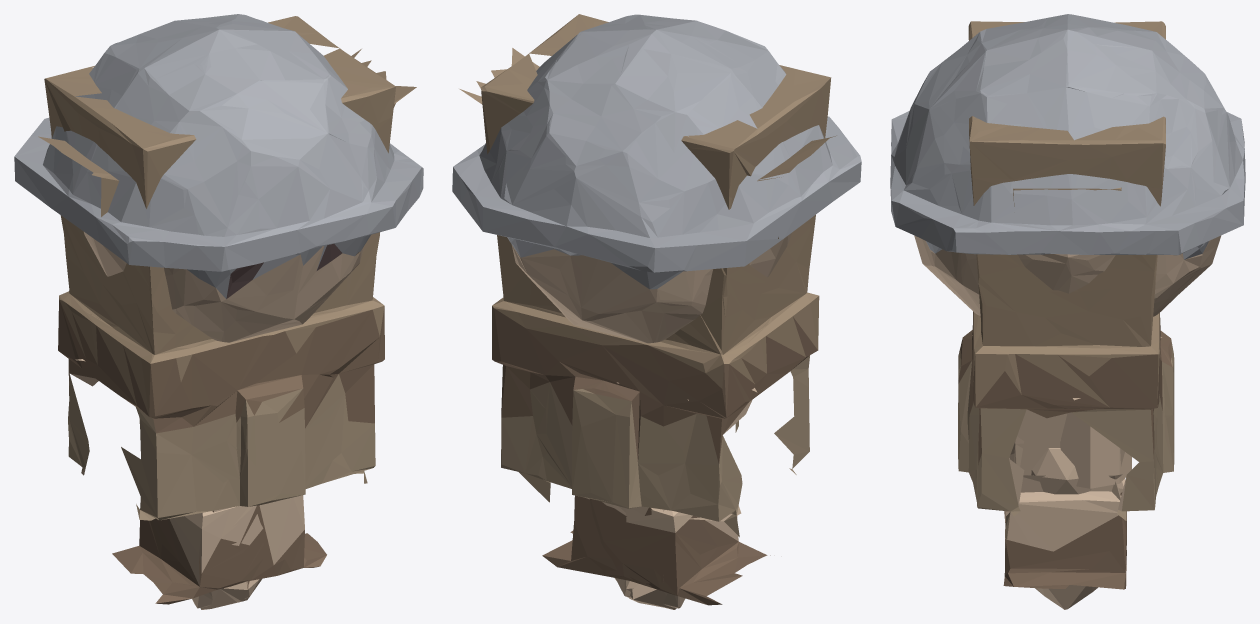
The model's file is grunt.glb.
The picture shows the model from 3 angles, left to right: view 1: azimuth 30°, elevation 25°; view 2: azimuth 150°, elevation 25°; view 3: azimuth 270°, elevation 25°; orthographic projection.
Visible parts, largest first — view 1: head, torso, legL_l, legR_l, armR_l; view 2: head, torso, legL_l, legR_l, armR_l; view 3: head, torso, legR_l, legR_u, legL_u, armR_l.
Boxes of the visible parts, box(x1,y1,x2,y2) form: head: box(14, 14, 423, 361); torso: box(38, 16, 416, 520); legL_l: box(112, 506, 264, 604); legR_l: box(212, 495, 326, 581); armR_l: box(200, 578, 261, 609); head: box(452, 14, 861, 400); torso: box(459, 14, 836, 537); legL_l: box(589, 498, 770, 605); legR_l: box(542, 495, 664, 584); armR_l: box(614, 578, 676, 609); head: box(890, 14, 1245, 400); torso: box(958, 21, 1174, 539); legR_l: box(1003, 443, 1126, 589); legR_u: box(1033, 412, 1131, 488); legL_u: box(1017, 409, 1124, 475); armR_l: box(1035, 585, 1097, 609).
Bounding box in the file's own units: 0.8341 × 1.4 × 0.7922.
